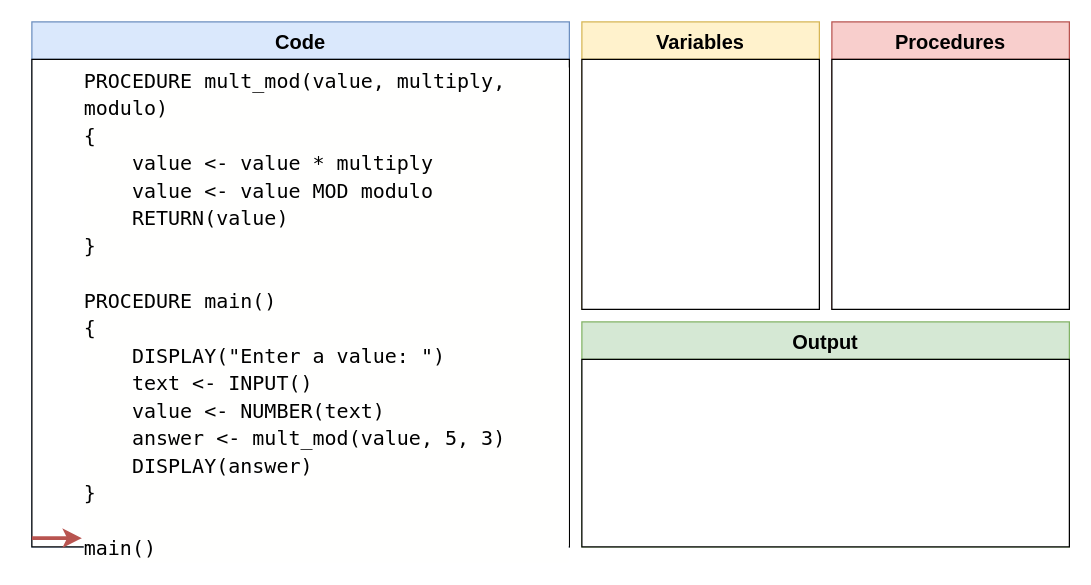
Image size: 1091x585. Some labels were removed from this diagram. Each missing label, with the centre of its shape:
Enter a value: 7 2: (825,452)
mult_mod(value, multiply, modulo) main(): (950,183)
text = "7" value = 7 answer = 2: (700,183)
